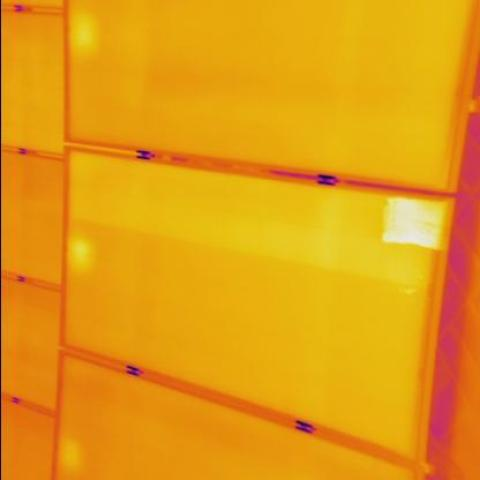fault: (384, 195, 434, 239)
